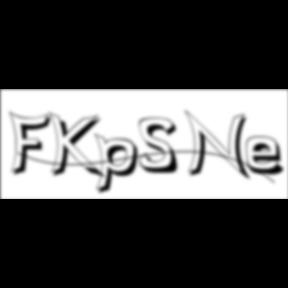F: (9, 110, 57, 178)
K: (48, 110, 107, 182)
N: (184, 109, 254, 183)
S: (139, 117, 185, 176)
p: (95, 132, 145, 198)
